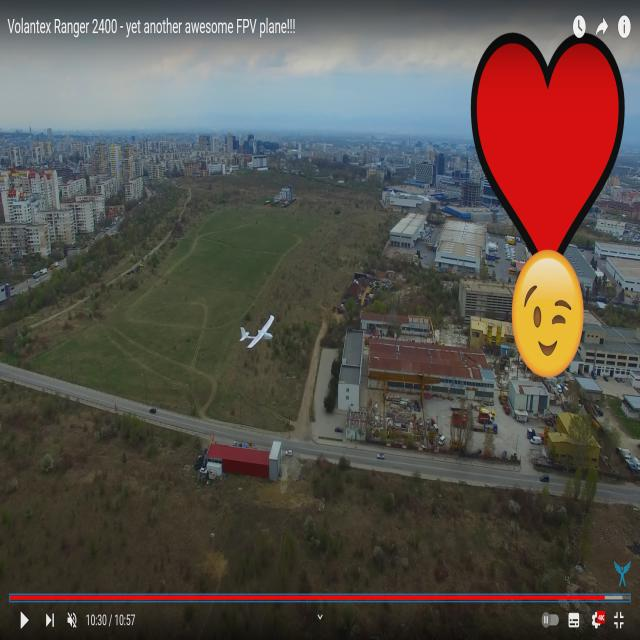iha: (241, 314, 277, 357)
